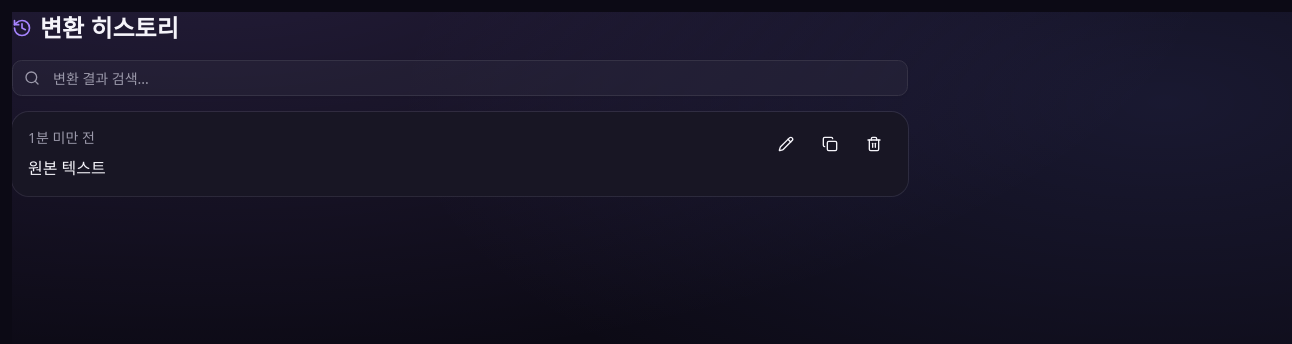
Scenario: TranscriptionHistory › 편집 후 저장하면 수정된 텍스트로 업데이트된다
Expected: the text "원본 텍스트" is shown, [28, 157, 106, 179]
Click the button named "편집".
click(786, 144)  # box [768, 128, 804, 160]
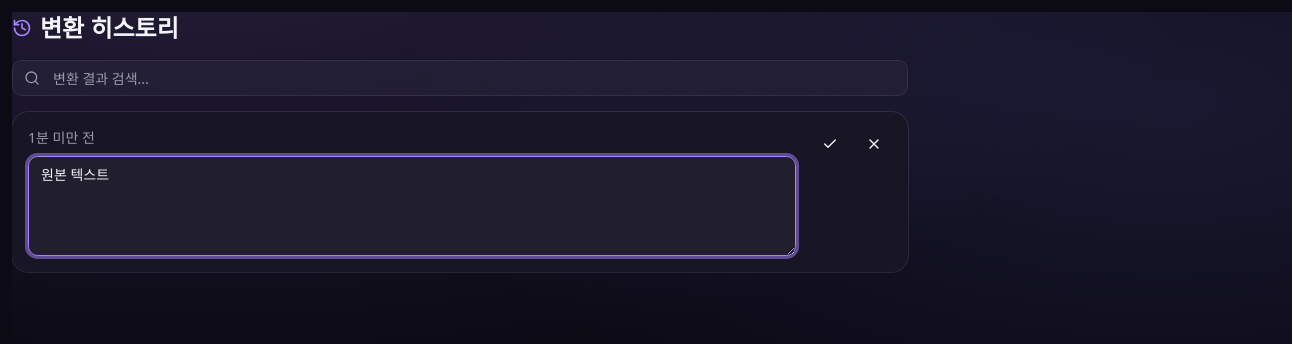
Replace the text in the text box with "수정된 텍스트" at (412, 206), box [28, 156, 796, 256]
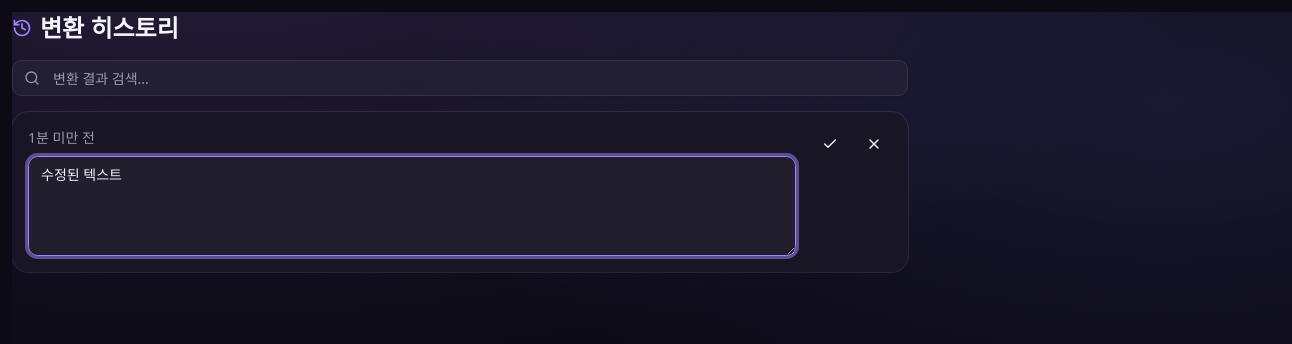
Click the button named "저장".
click(830, 144)  # box [812, 128, 848, 160]
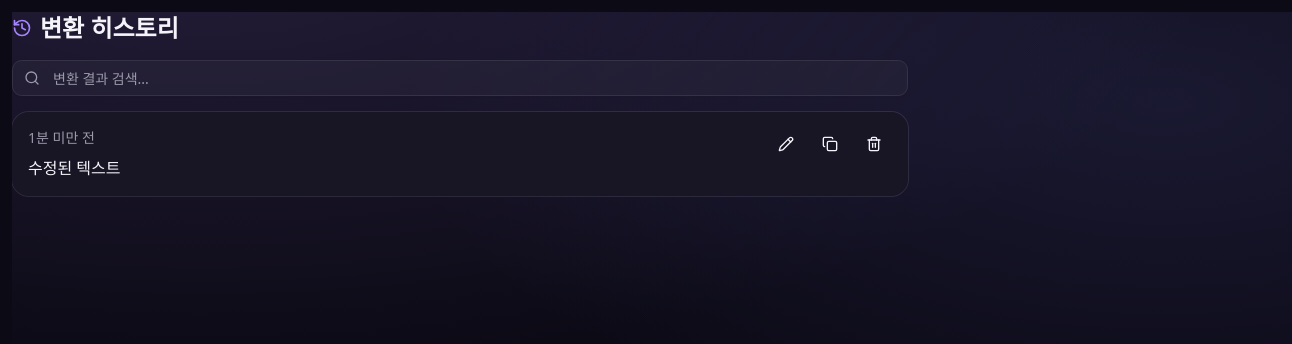
Expected: the text "수정된 텍스트" is shown, [28, 157, 120, 179]
